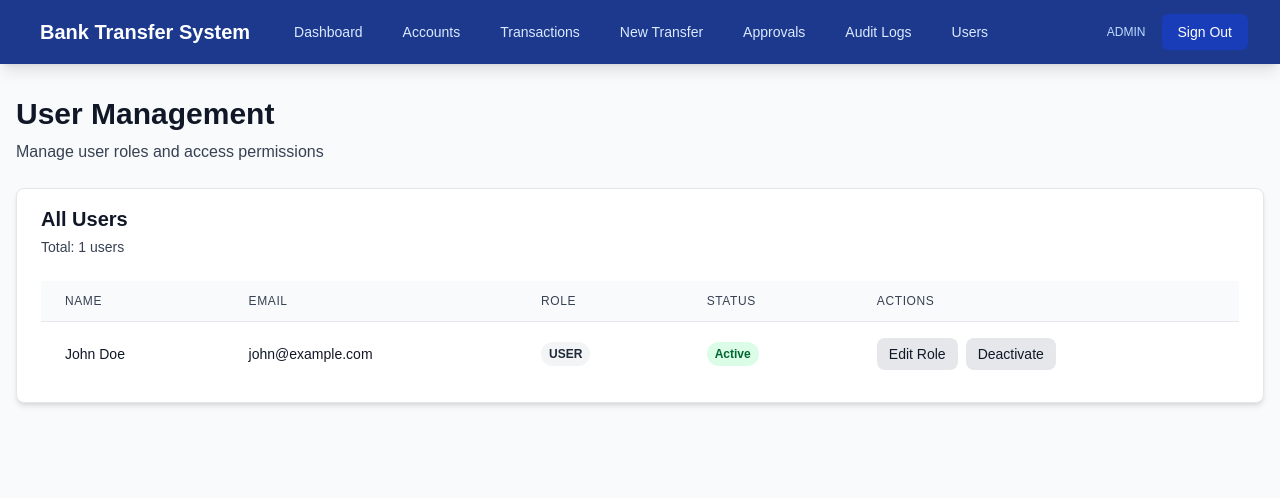
Test case: Users Page › handles status toggle error
Expected: the text "John Doe" is shown, [41,322,225,386]
Click the button "Deactivate" at (1011, 354), box [966,338,1056,370]
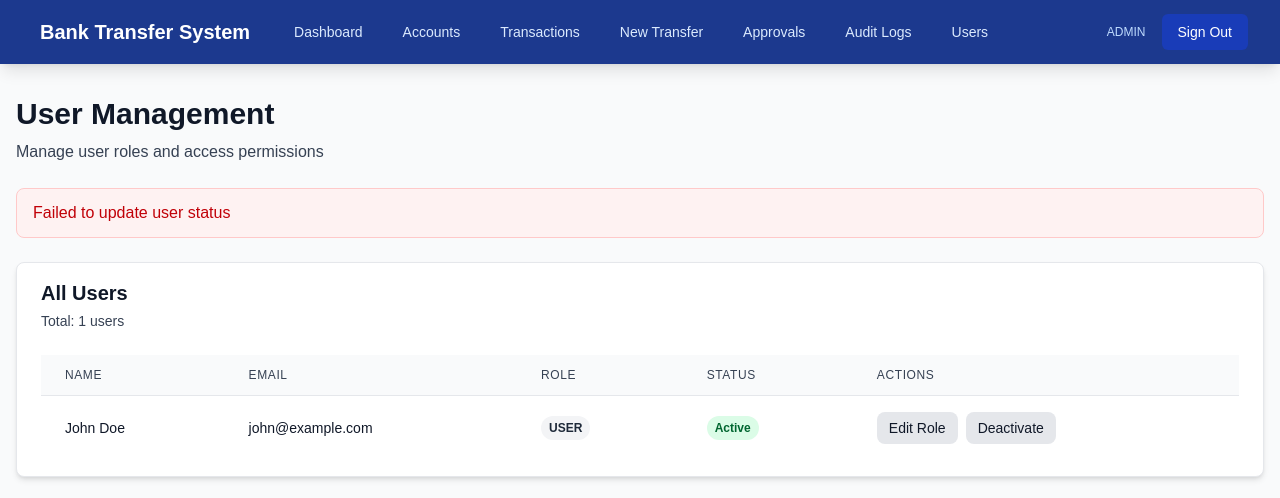
Result: the text "Failed to update user status" is shown at [16,188,1264,238]
